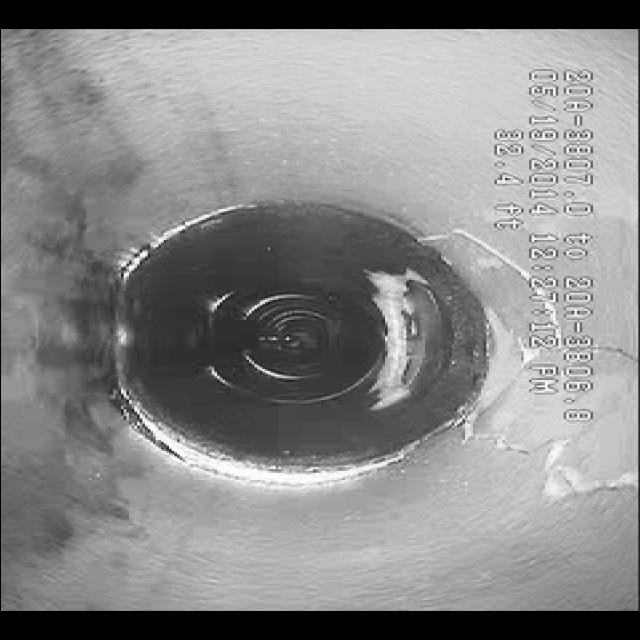Fracture: (478, 423, 631, 510)
